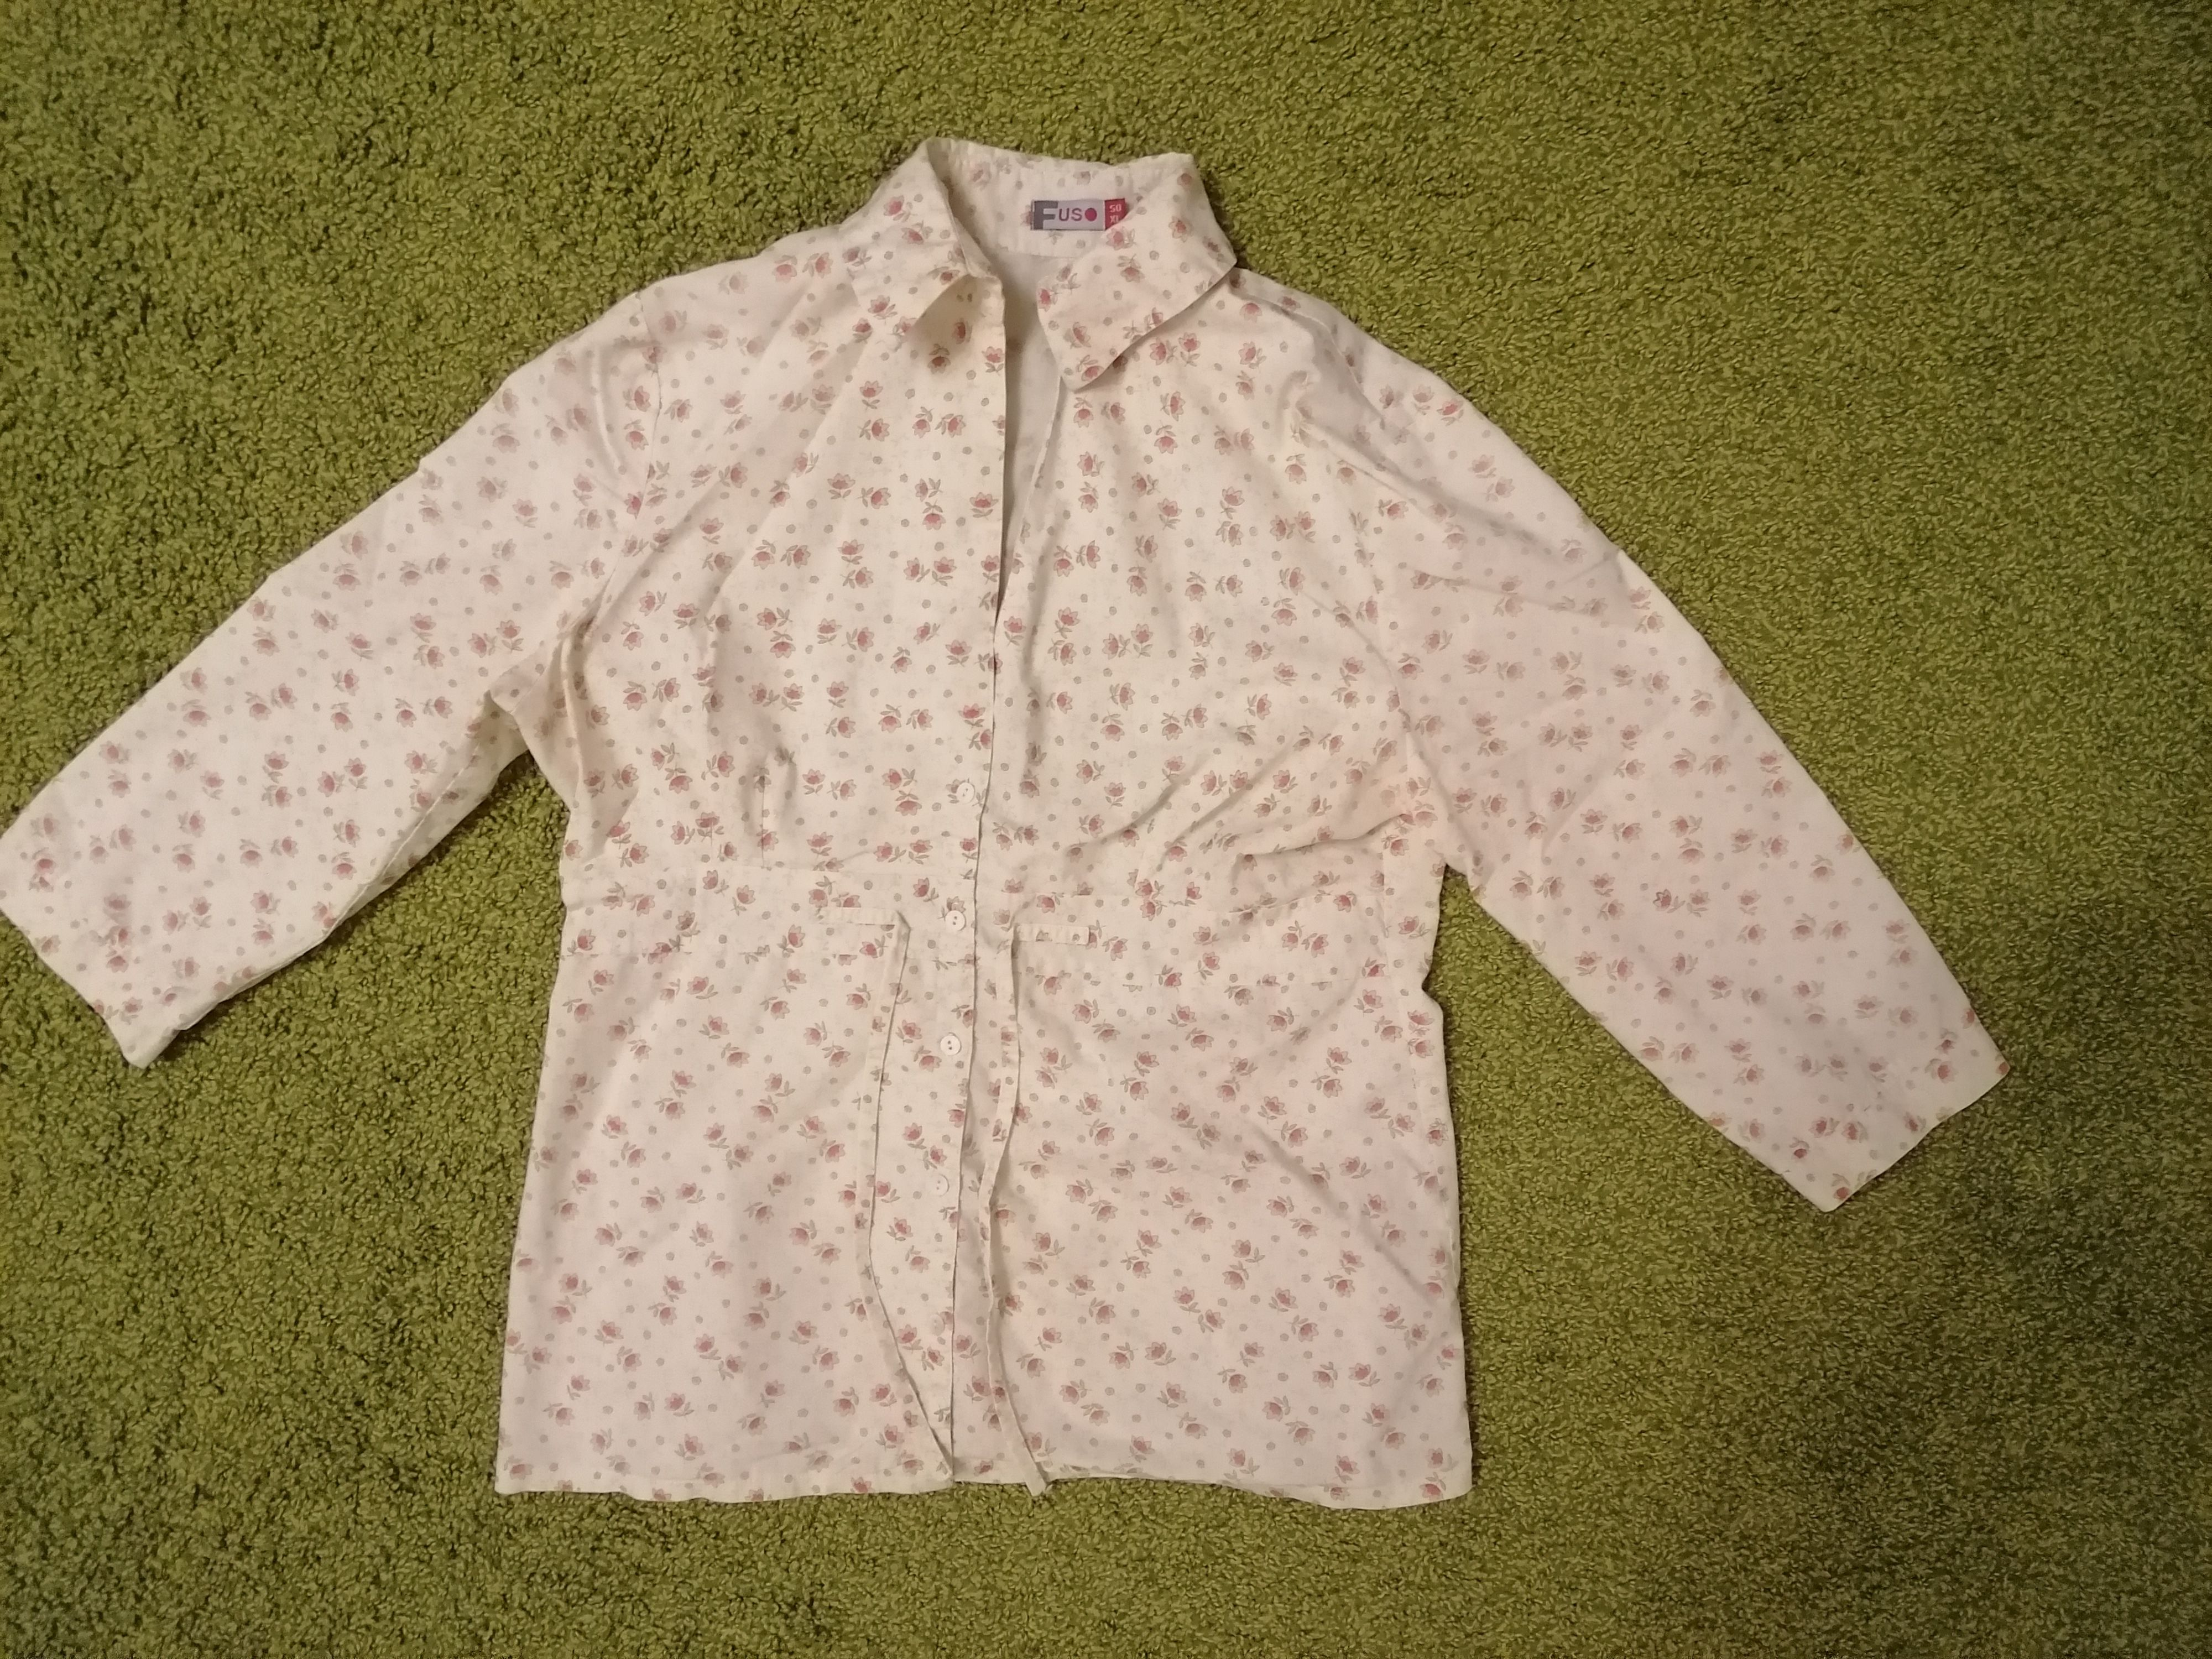clothes: (14, 129, 2031, 1516)
